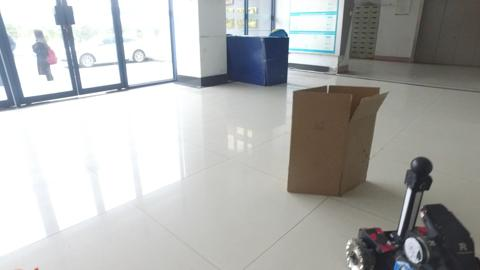box: (283, 82, 379, 199)
chariot: (348, 151, 478, 268)
